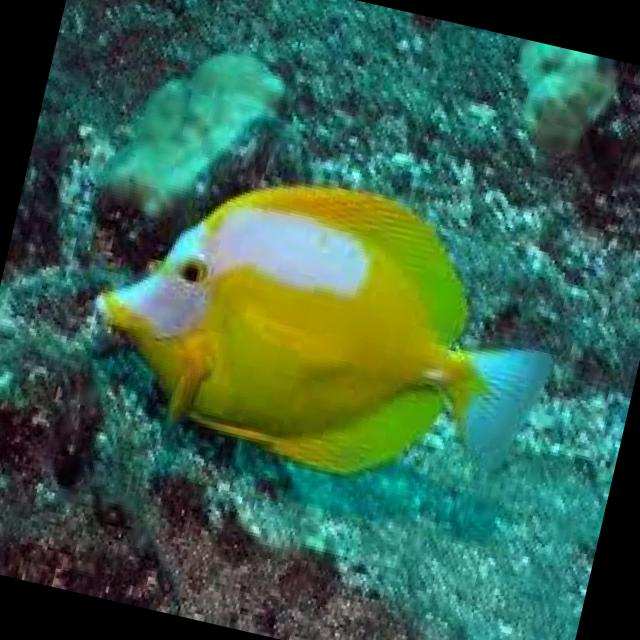TangFish: (63, 130, 582, 528)
